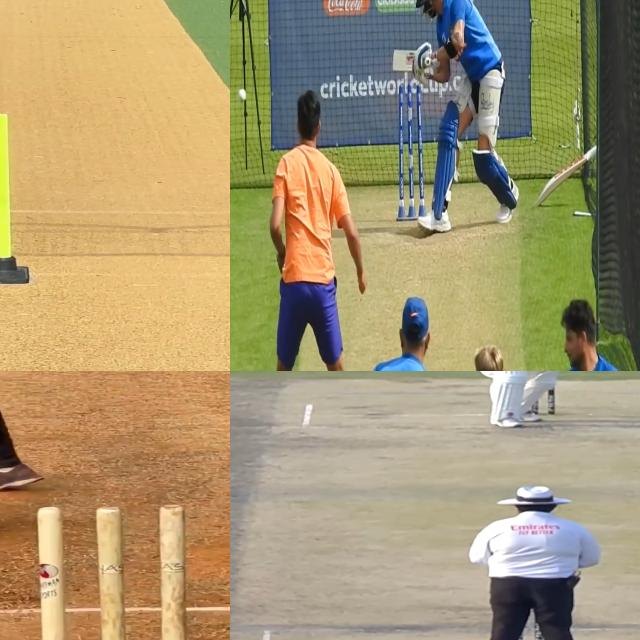Cricket ball: (35, 504, 189, 640), (238, 85, 248, 106)
Stumps: (396, 83, 427, 222)
